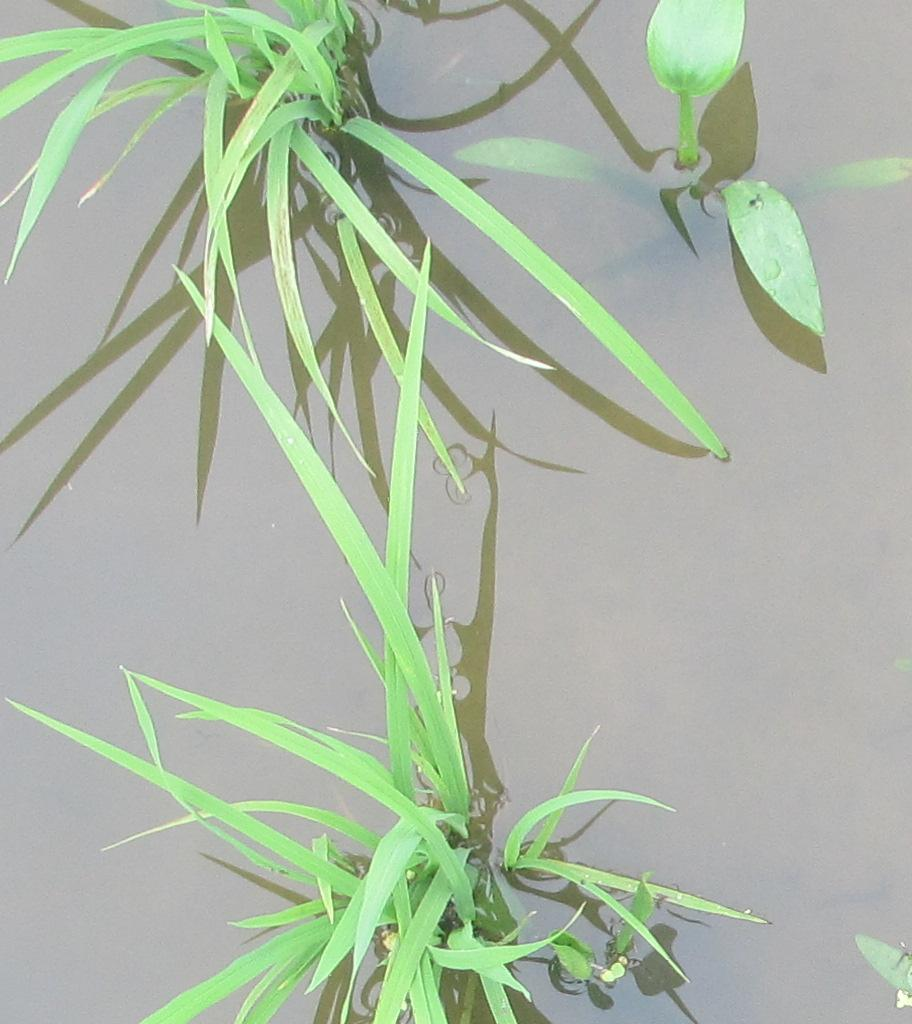Weed: (635, 1, 824, 333)
